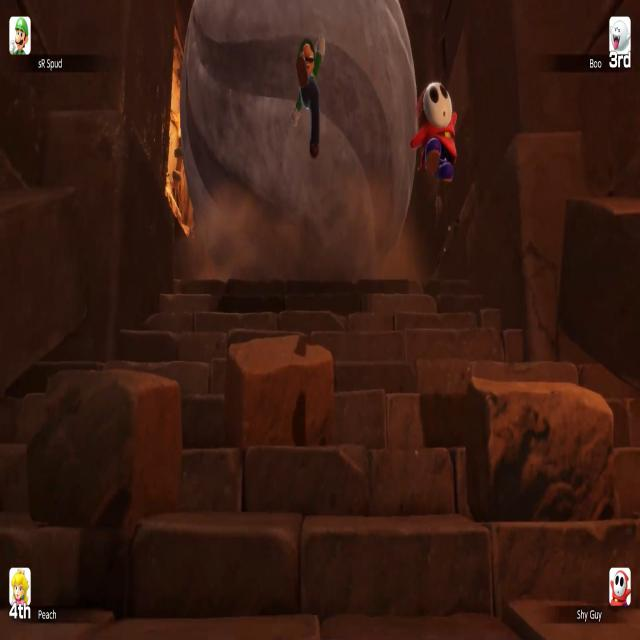Luigi: (289, 35, 326, 158)
Shy Guy: (411, 80, 457, 184)
obstacle: (20, 368, 183, 516), (466, 376, 614, 521), (225, 334, 338, 447)
rolling stone: (179, 0, 418, 279)
